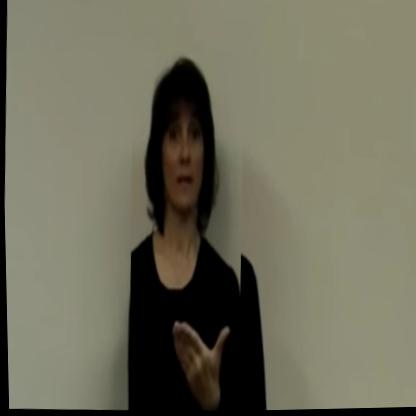ThankYou: (121, 50, 249, 414)
